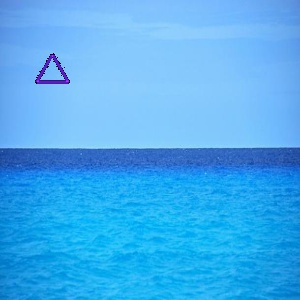triangle: (31, 50, 74, 86)
